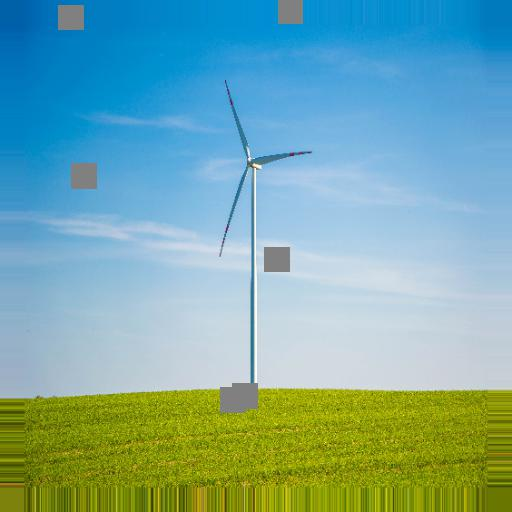wind turbine: (217, 81, 313, 388)
